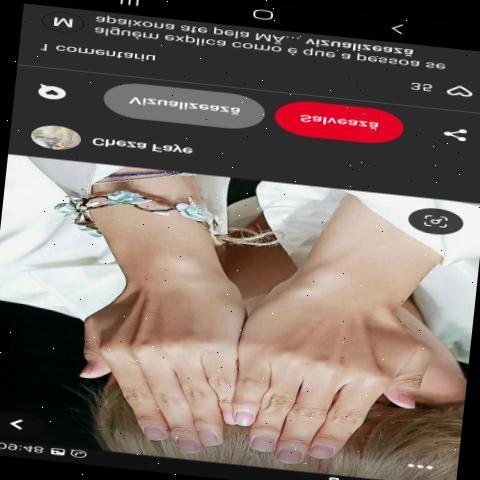Hands: (238, 252, 446, 459), (65, 214, 243, 454)
